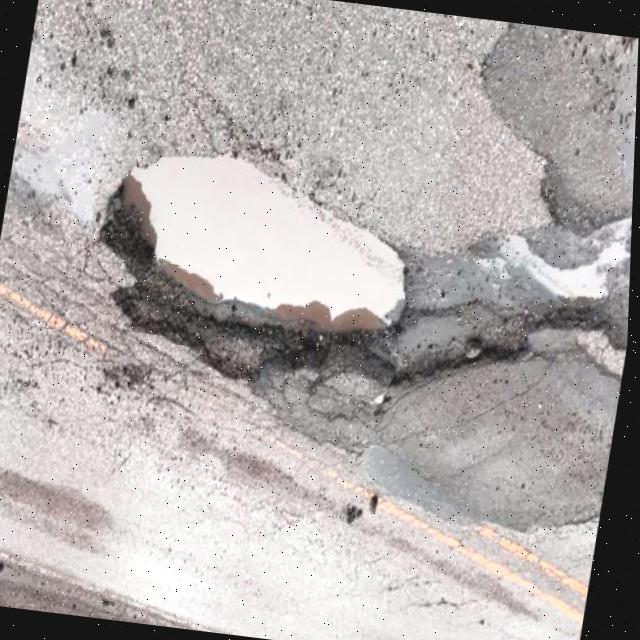Pothole: (0, 28, 457, 409), (437, 203, 634, 369)
